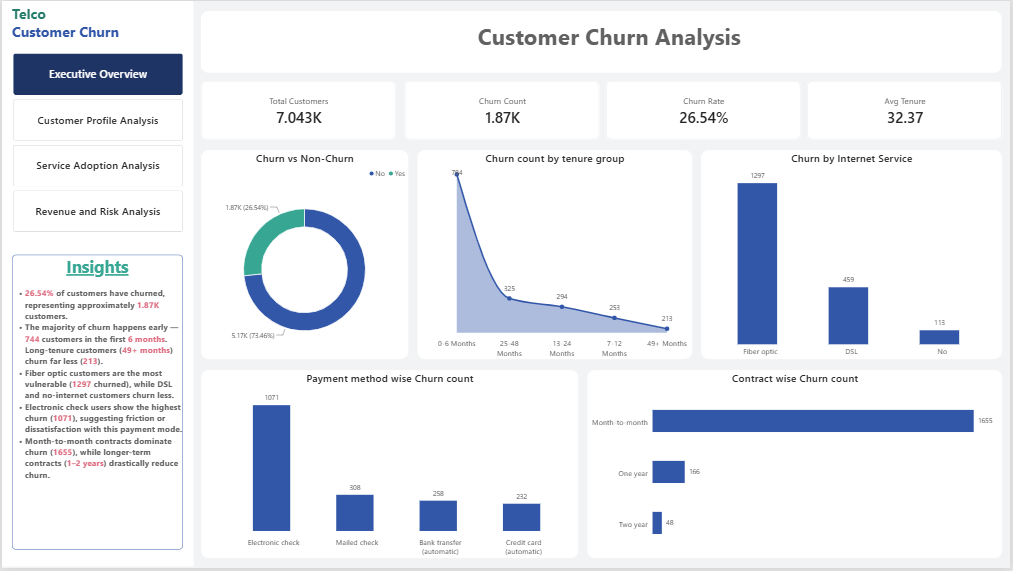

The page's visual inventory and layout, read from the dashboard file:
{"tool":"powerbi","page":{"name":"Executive Overview","canvas":[1920,1080],"ordinal":0},"visuals":[{"type":"cardVisual","title":"Total Customers","fields":{"Data":["Measure Table.Total Customers"]},"box":[379.1,152.8,372,112.3],"z":0},{"type":"cardVisual","title":"Total Customers","fields":{"Data":["Measure Table.Churn Count"]},"box":[766,152.8,372,112.3],"z":1000},{"type":"clusteredColumnChart","title":"Payment method wise Churn count","fields":{"Category":["public customer.payment_method"],"Y":["CountNonNull(public customer.churn)"]},"box":[379.1,703.1,719.6,358.9],"z":2000},{"type":"clusteredBarChart","title":"Contract wise Churn count","fields":{"Category":["public customer.contract"],"Y":["CountNonNull(public customer.churn)"]},"box":[1113.5,703.1,791.4,358.9],"z":3000},{"type":"columnChart","title":"Churn by Internet Service","fields":{"Category":["public customer.internet_service"],"Y":["CountNonNull(public customer.churn)"]},"box":[1330.7,283.4,574.2,399.4],"z":4000},{"type":"cardVisual","title":"Total Customers","fields":{"Data":["Measure Table.Churn Rate"]},"box":[1149,152,372,112.3],"z":5000},{"type":"lineChart","title":"Churn count by tenure group","fields":{"Category":["public customer.tenure_group"],"Y":["CountNonNull(public customer.churn)"]},"box":[789.6,283.4,524.5,399.4],"z":6000},{"type":"donutChart","title":"Churn vs Non-Churn","fields":{"Category":["public customer.churn"],"Y":["CountNonNull(public customer.churn)"]},"box":[379.1,283.4,395.7,399.4],"z":7000},{"type":"shape","box":[0,0,364.4,1076.7],"z":8000},{"type":"textbox","box":[1689.6,3.7,215.3,149.1],"z":9000},{"type":"shape","box":[379.1,18.4,1525.8,117.8],"z":10000},{"type":"textbox","box":[410.4,38.7,1494.5,73.6],"z":11000},{"type":"textbox","box":[18.4,3.7,323.9,95.7],"z":12000},{"type":"pageNavigator","box":[20.2,99.4,323.9,342.3],"z":13000},{"type":"cardVisual","title":"Total Customers","fields":{"Data":["Measure Table.Avg Tenure"]},"box":[1533.1,152.8,372,112],"z":14000},{"type":"textbox","box":[18.4,484.1,325.8,561.4],"z":15000}]}

Visuals, with their boxes in screenshot pixels (x1, y1, x2, y2), scaled from the page's 1920x1080 canvas onto the 1013x571 screenshot:
"Total Customers" cardVisual: (left=200, top=81, right=396, bottom=140)
"Total Customers" cardVisual: (left=404, top=81, right=600, bottom=140)
"Payment method wise Churn count" clusteredColumnChart: (left=200, top=372, right=580, bottom=561)
"Contract wise Churn count" clusteredBarChart: (left=587, top=372, right=1005, bottom=561)
"Churn by Internet Service" columnChart: (left=702, top=150, right=1005, bottom=361)
"Total Customers" cardVisual: (left=606, top=80, right=802, bottom=140)
"Churn count by tenure group" lineChart: (left=417, top=150, right=693, bottom=361)
"Churn vs Non-Churn" donutChart: (left=200, top=150, right=409, bottom=361)
shape: (left=0, top=0, right=192, bottom=569)
textbox: (left=891, top=2, right=1005, bottom=81)
shape: (left=200, top=10, right=1005, bottom=72)
textbox: (left=217, top=20, right=1005, bottom=59)
textbox: (left=10, top=2, right=181, bottom=53)
pageNavigator: (left=11, top=53, right=182, bottom=234)
"Total Customers" cardVisual: (left=809, top=81, right=1005, bottom=140)
textbox: (left=10, top=256, right=182, bottom=553)
